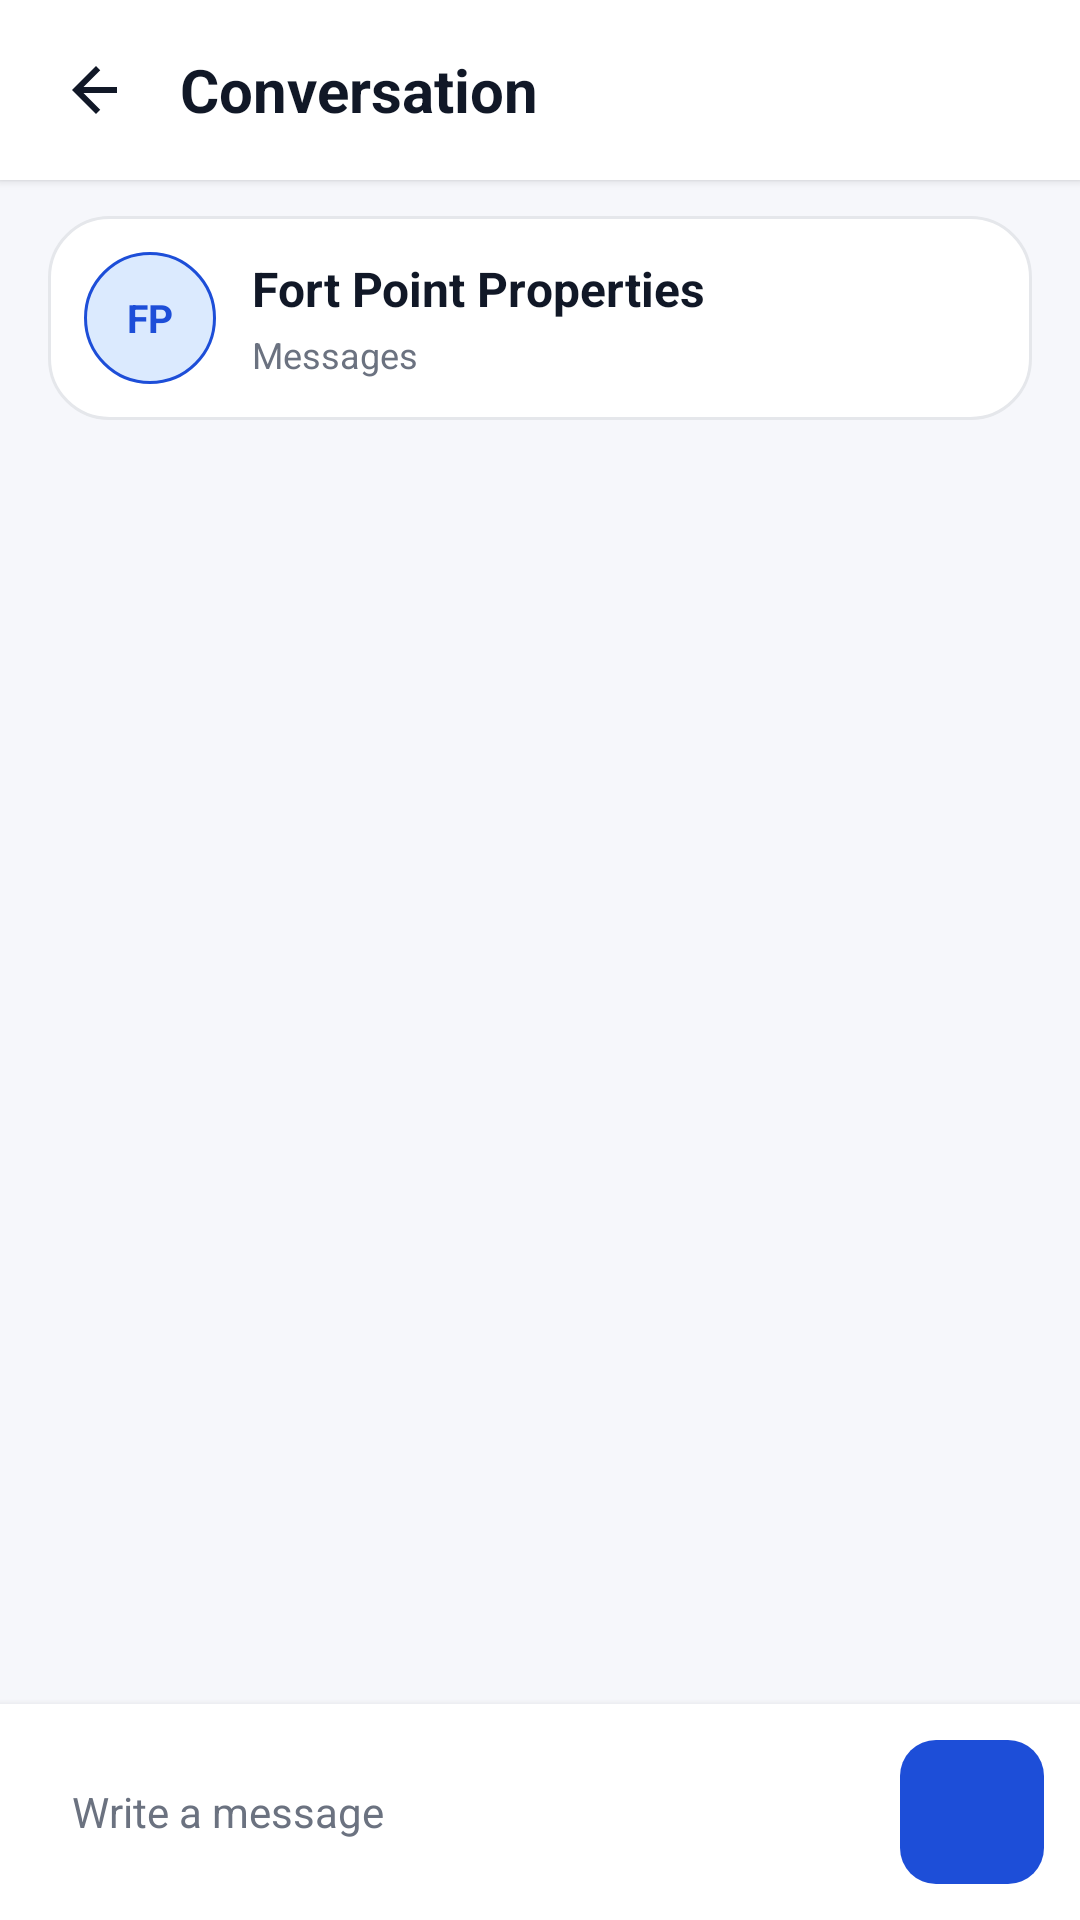

Icon click points for this 1080×1920 phone screenshot, format point (x, y):
Back: point (94, 90)
